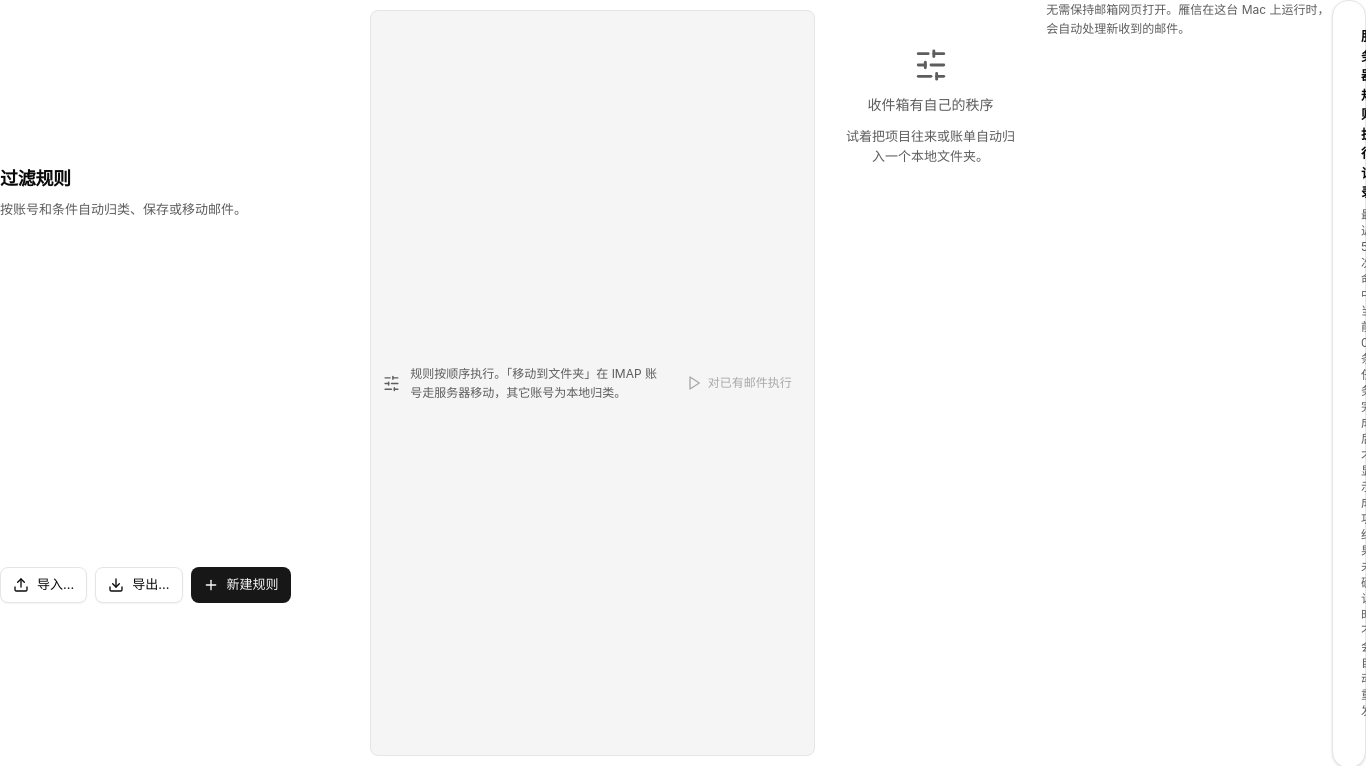
shows how many previews wait for the full message
Click the button named "展开或收起服务器规则执行记录": (1358, 373) [1349,25,1365,720]
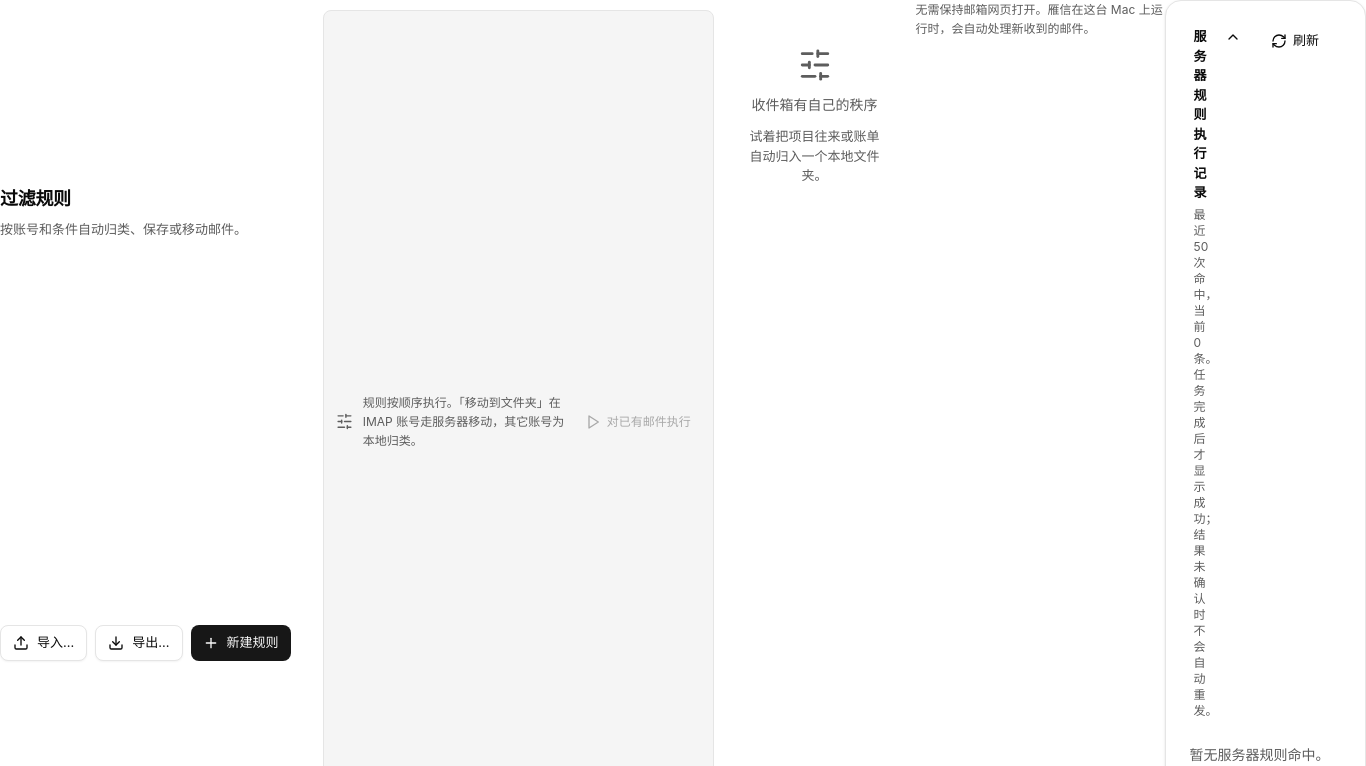
Click the button "新建规则": (240, 643) [190,625,290,661]
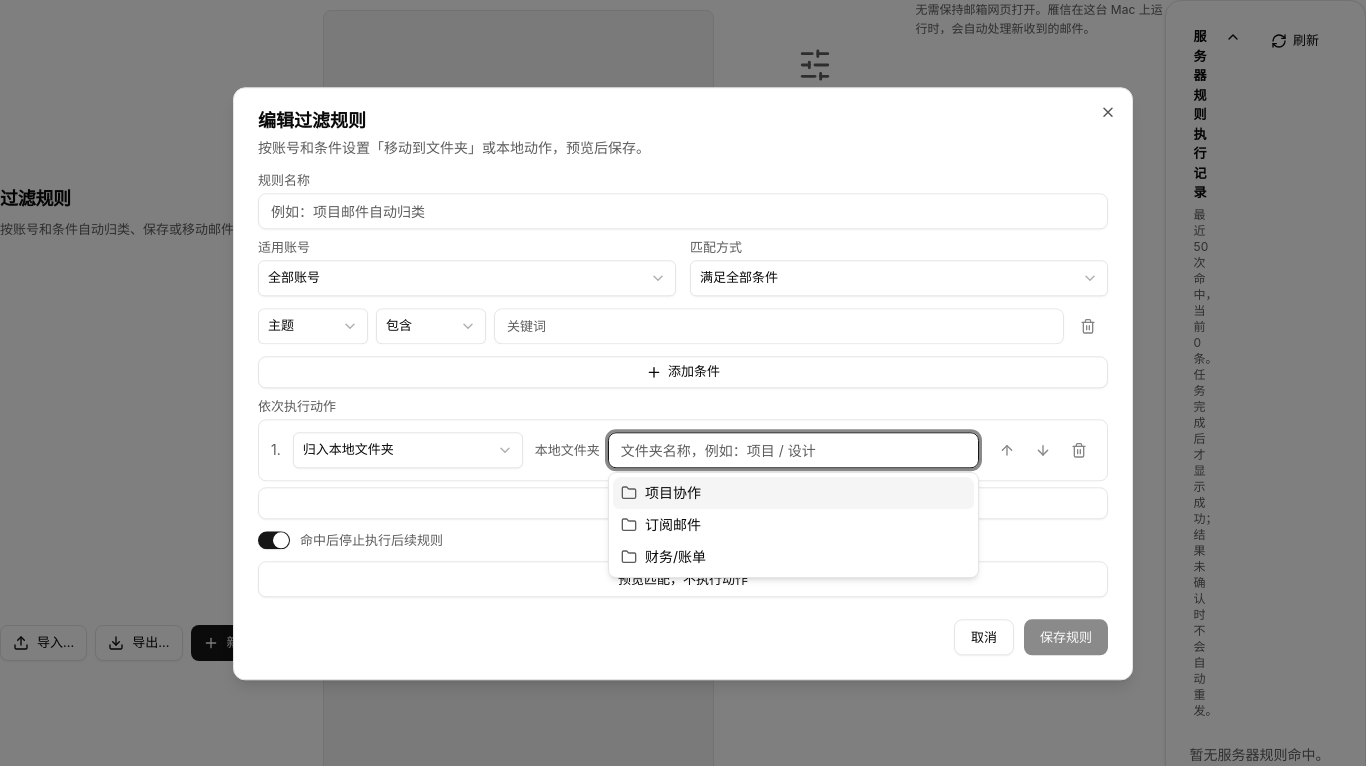
Now the button "预览匹配，不执行动作" is shown
Click the button "预览匹配，不执行动作": (683, 580) [258,562,1108,598]
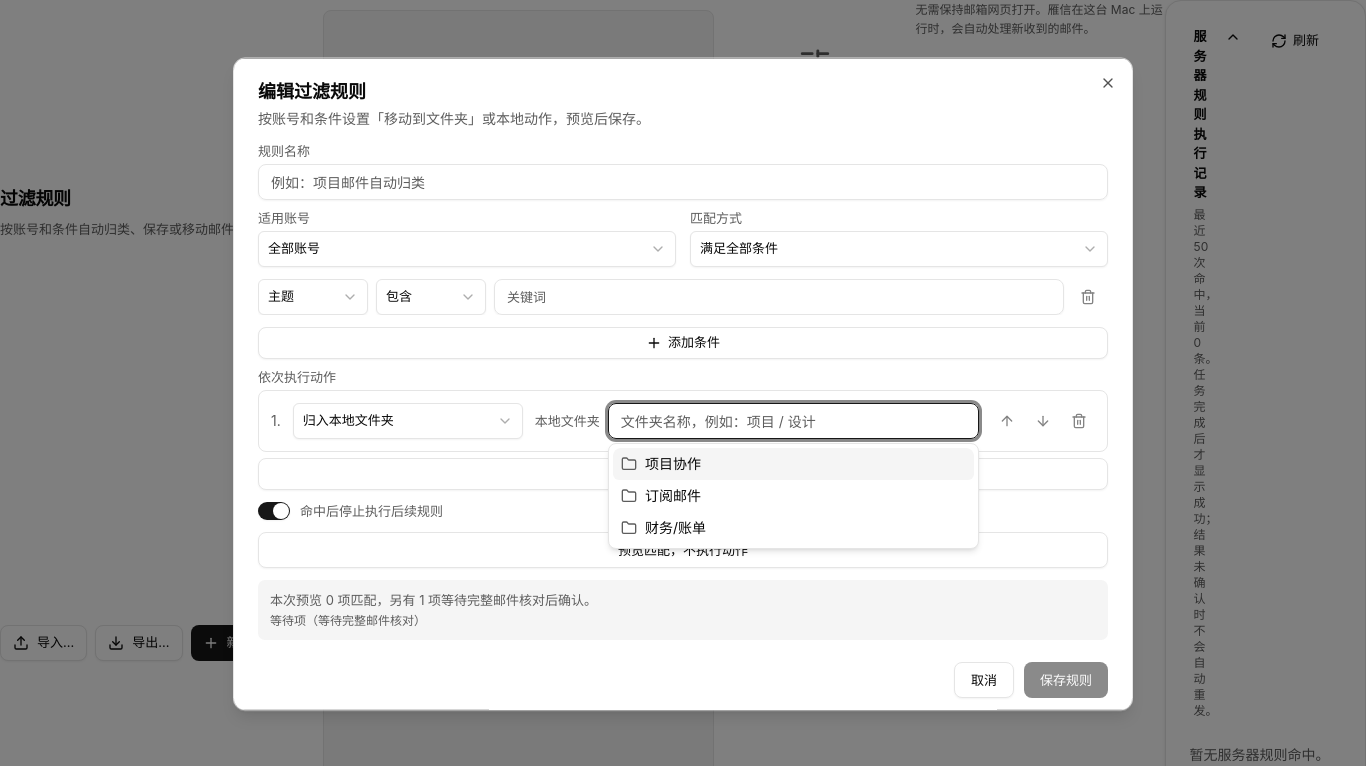
Now the text "本次预览 0 项匹配，另有 1 项等待完整邮件核对后确认" is shown, box [270,592,597,608]
